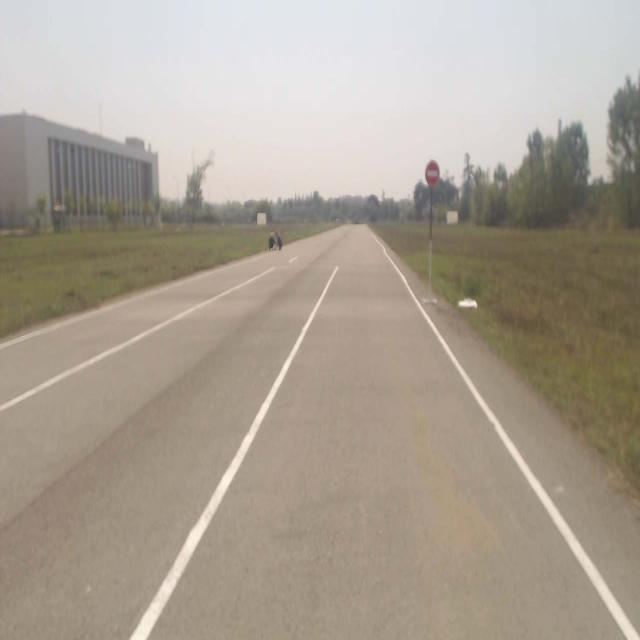girisyok: (426, 160, 440, 186)
